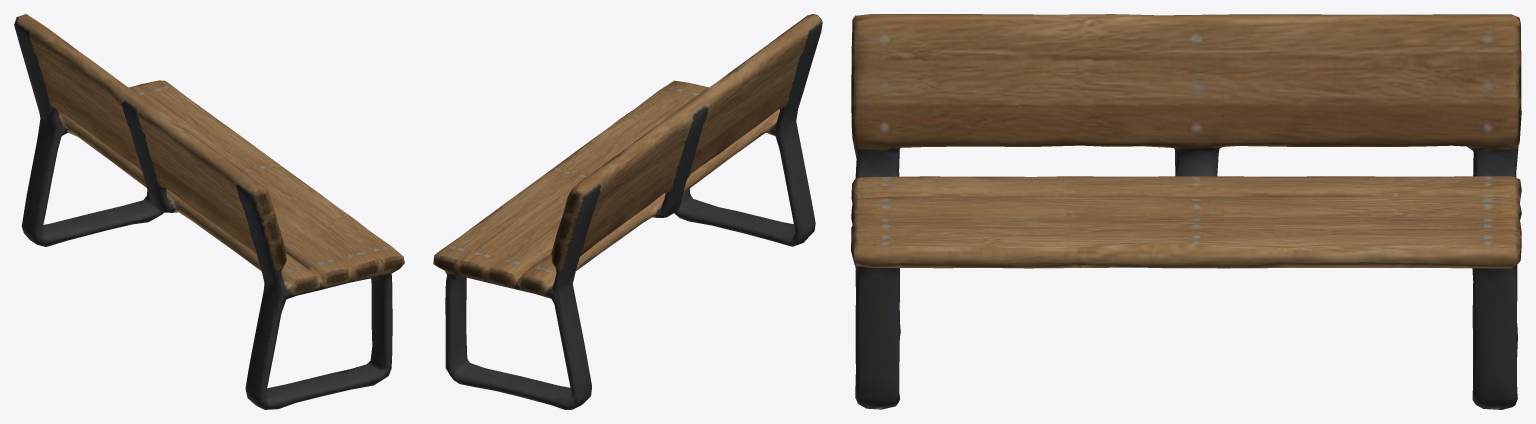
The model's file is plaza_bench.glb.
The picture shows the model from 3 angles, left to right: view 1: azimuth 30°, elevation 25°; view 2: azimuth 150°, elevation 25°; view 3: azimuth 270°, elevation 25°; orthographic projection. The views are drawn at different scales.
Bounding box in the file's own units: 0.3726 × 0.5236 × 1.02.
Materials: 1 (1 with a texture image).
